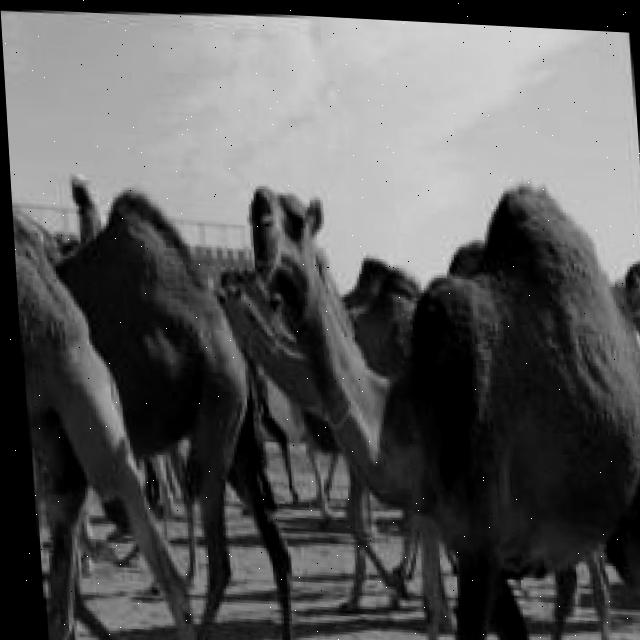Camel: (241, 169, 640, 640)
